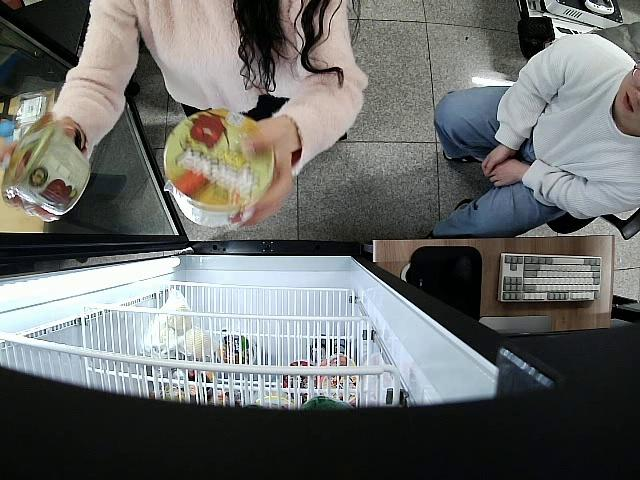00_hand: (241, 111, 297, 234)
04_chapagetti_S: (164, 110, 273, 230), (0, 118, 89, 218)
